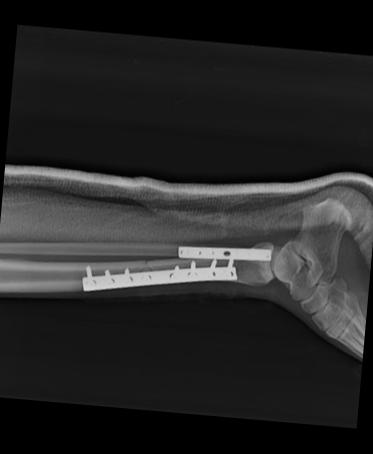fractured: (132, 258, 152, 273)
